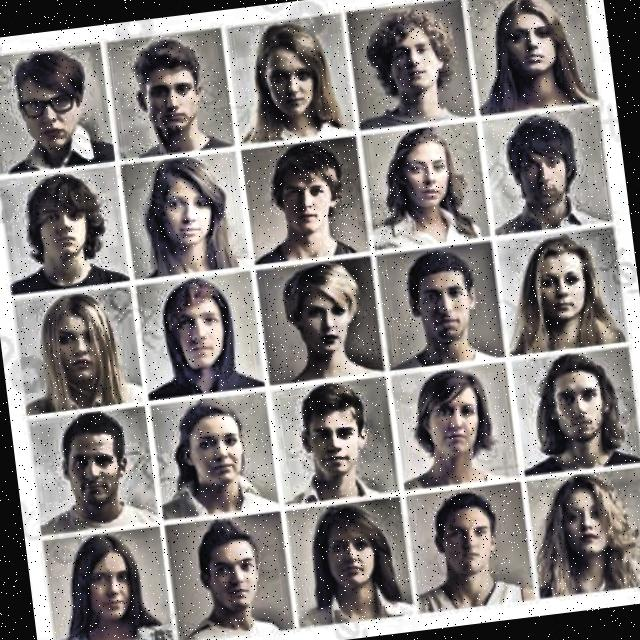neutral: (507, 344, 640, 478), (501, 223, 631, 354), (0, 39, 121, 177), (105, 33, 236, 157), (0, 161, 122, 293), (23, 284, 133, 424), (228, 15, 351, 140), (490, 111, 613, 236), (170, 517, 295, 640), (243, 137, 363, 264), (391, 362, 510, 489), (261, 260, 375, 386), (530, 469, 640, 598), (140, 279, 258, 398), (367, 123, 478, 249), (289, 503, 402, 626), (26, 412, 142, 531), (43, 525, 163, 640), (130, 150, 244, 271), (413, 489, 524, 612), (278, 379, 384, 507), (389, 251, 499, 369), (150, 399, 258, 511)
